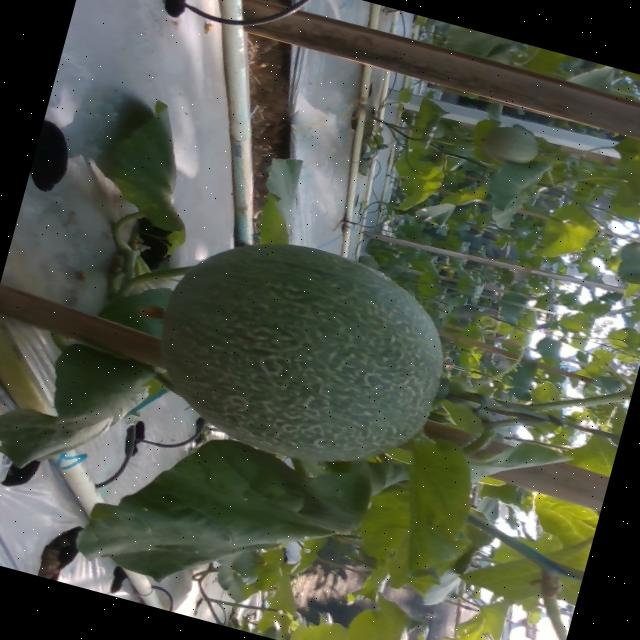melon: (159, 244, 441, 461)
